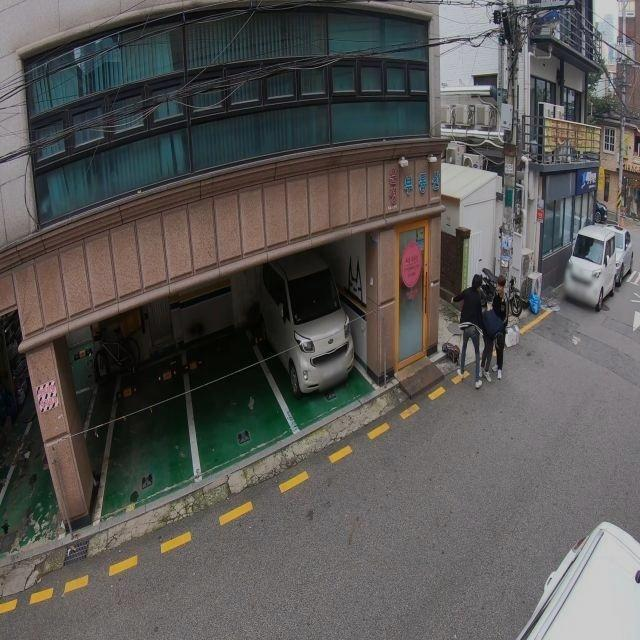fight: (457, 270, 508, 388)
